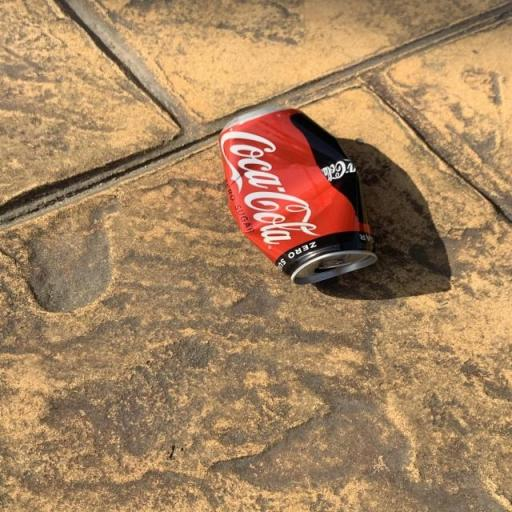metal: (186, 88, 398, 309)
